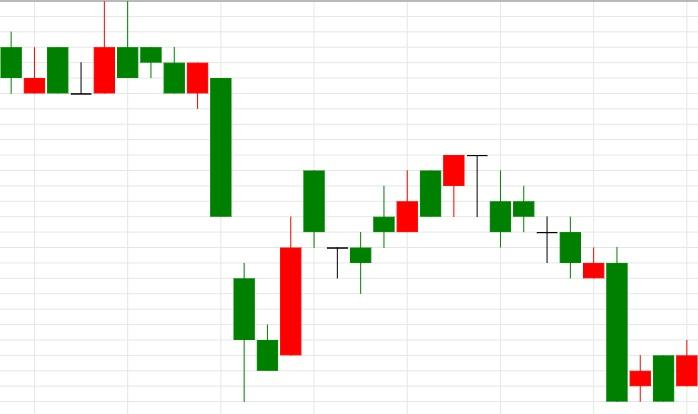evening_star_fall: (351, 154, 511, 294)
